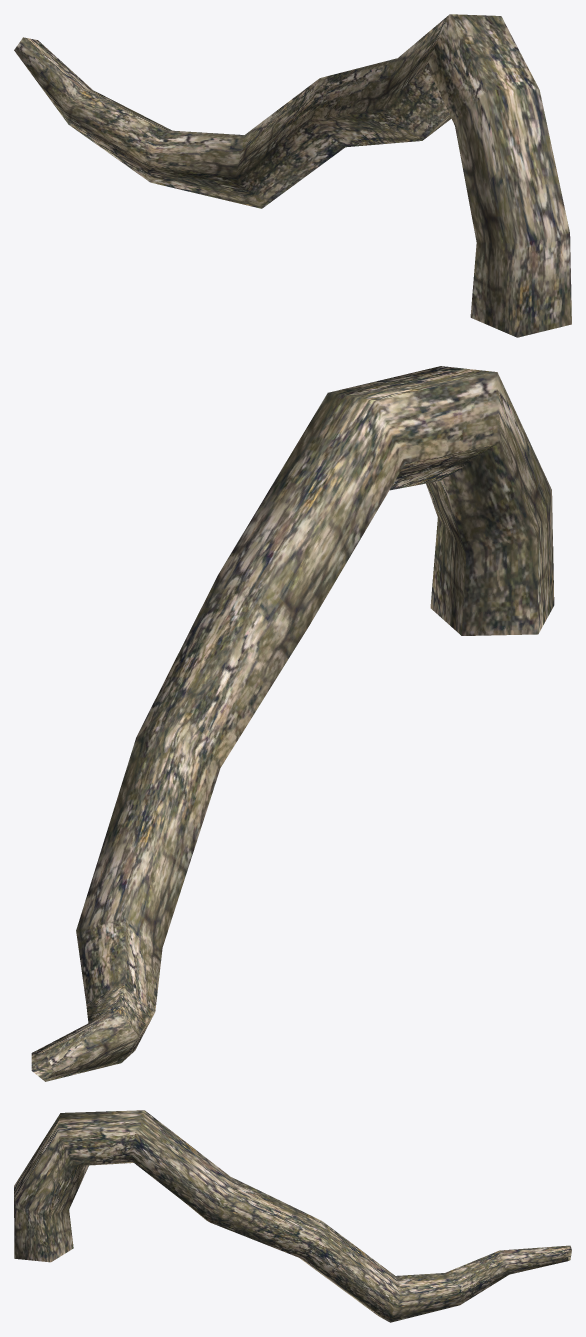
File: OVERHILL_A_01_LINE84.fbx
3 renders of one model, top to bottom at view 1: azimuth 30°, elevation 25°; view 2: azimuth 150°, elevation 25°; view 3: azimuth 270°, elevation 25°, orthographic. The views are drawn at different scales.
Parts seen in each view (by area): view 1: OVERHILL_A_01_LINE84; view 2: OVERHILL_A_01_LINE84; view 3: OVERHILL_A_01_LINE84.
Part boxes in pixels (box(x1,y1,x2,y2)): OVERHILL_A_01_LINE84: box(14, 14, 571, 337); OVERHILL_A_01_LINE84: box(31, 366, 554, 1081); OVERHILL_A_01_LINE84: box(14, 1110, 571, 1322).
Bounding box in the file's own units: 22343 × 44680 × 109605.
1 material, 1 textured.
